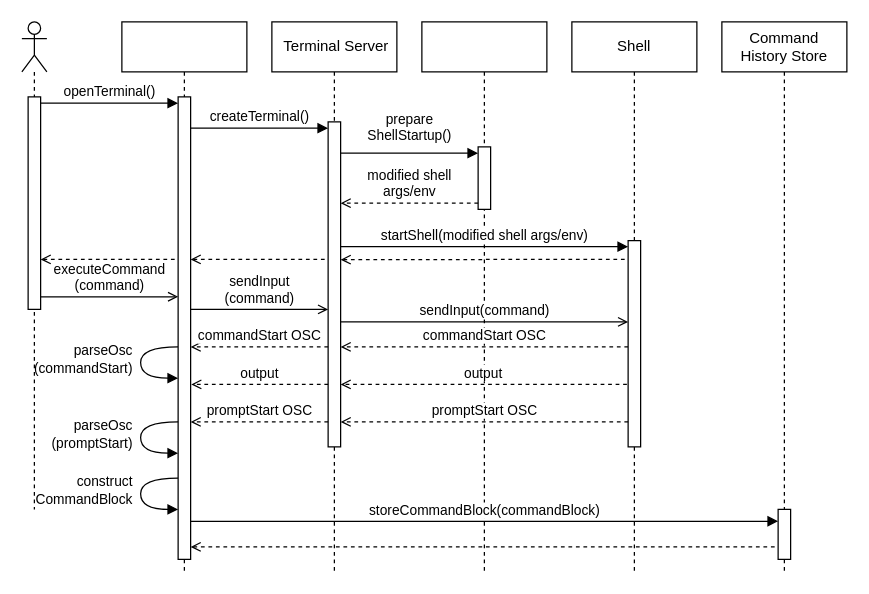
Some shapes in this 869 by 594 pixel diagram are drawn without their labels. Each missing label, with the box of its shape:
Shell Integration: (421, 21, 547, 572)
Terminal Widget: (121, 21, 247, 572)
